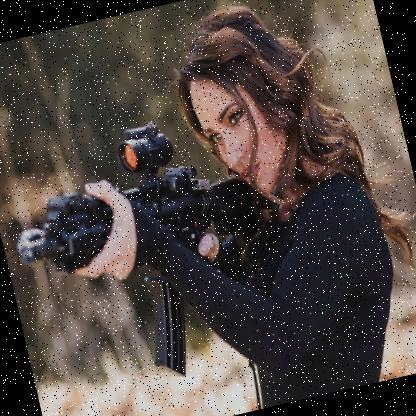rifle: (0, 104, 293, 416)
